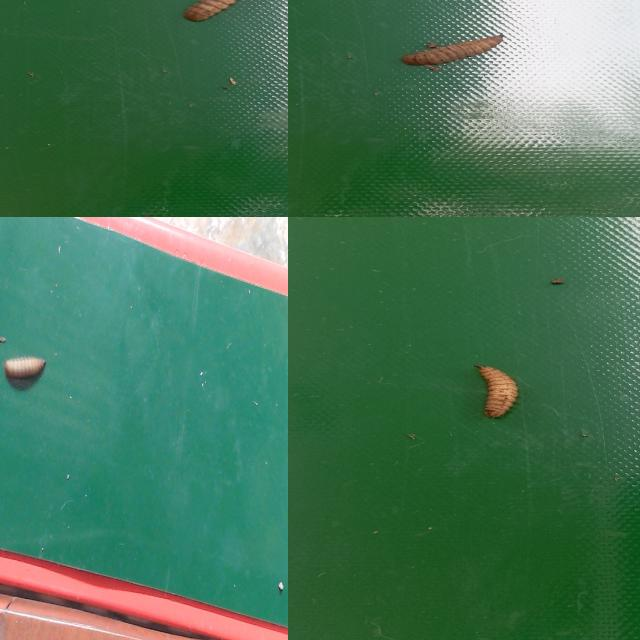Maggot: (400, 34, 503, 70), (477, 366, 521, 420), (2, 354, 48, 393), (183, 0, 242, 25)
